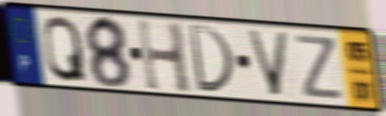8: (82, 14, 135, 92)
D: (186, 22, 237, 96)
H: (135, 16, 195, 97)
Q: (41, 13, 89, 84)
V: (244, 28, 292, 99)
Z: (294, 32, 345, 102)
